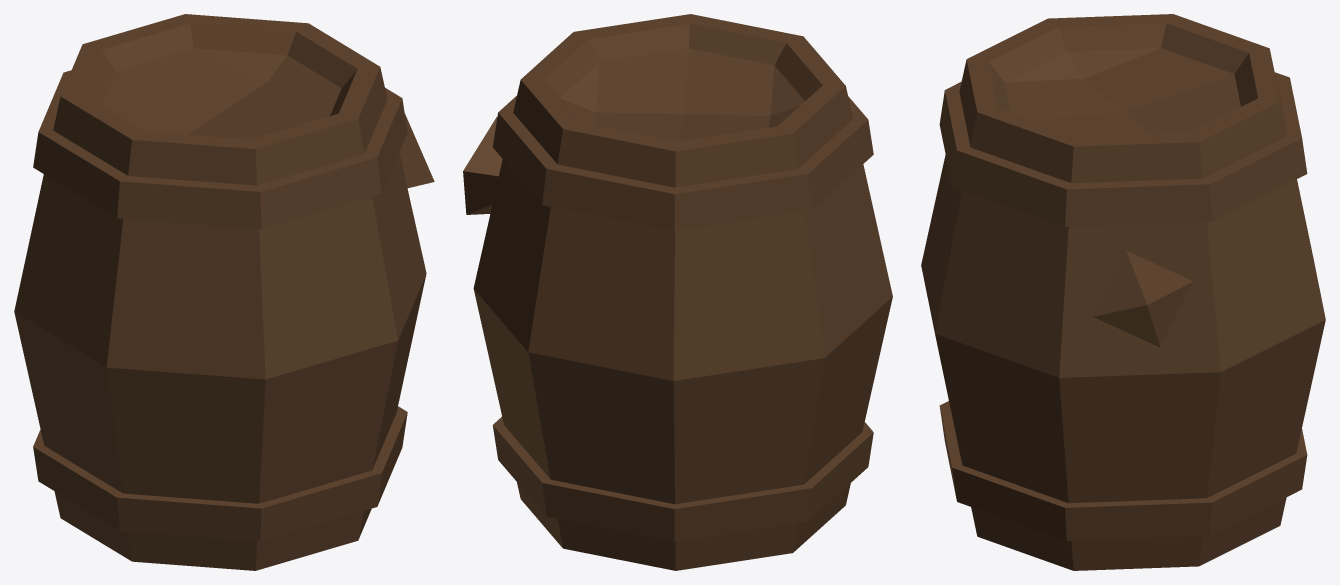
Rendered from keg.glb.
3 renders of one model, left to right at view 1: azimuth 30°, elevation 25°; view 2: azimuth 150°, elevation 25°; view 3: azimuth 270°, elevation 25°, orthographic.
Visible parts, largest first — view 1: keg; view 2: keg; view 3: keg.
Part boxes in pixels (left/top/right/bottom): keg: left=14, top=14, right=434, bottom=570; keg: left=463, top=14, right=892, bottom=570; keg: left=921, top=14, right=1325, bottom=570.
Bounding box in the file's own units: 0.7993 × 0.85 × 0.7347.
